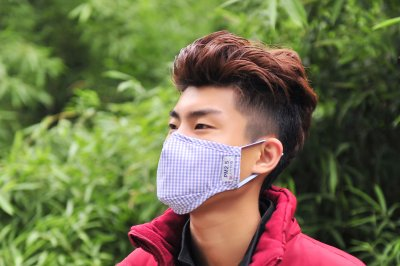face_mask: (158, 84, 258, 188)
